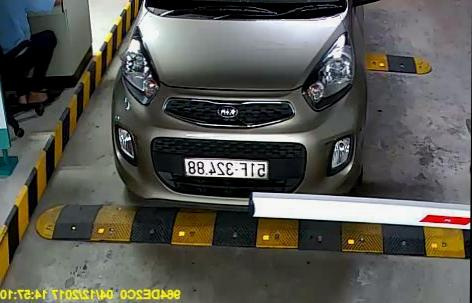License_Plate: (182, 156, 271, 182)
